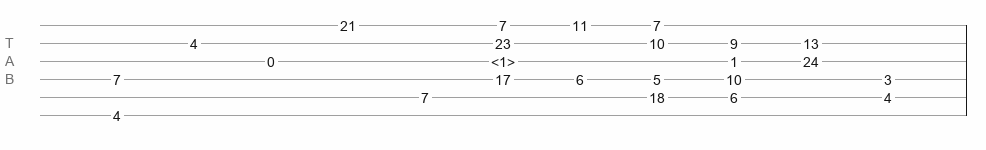0: (267, 54, 275, 64)
1: (730, 54, 738, 64)
10: (649, 36, 665, 46), (726, 72, 742, 82)
11: (572, 18, 588, 28)
13: (803, 36, 819, 46)
17: (495, 72, 511, 82)
18: (649, 90, 665, 100)
21: (340, 18, 356, 28)
23: (495, 36, 511, 46)
24: (803, 54, 819, 64)
3: (884, 72, 892, 82)
4: (113, 108, 121, 118), (190, 36, 198, 46), (884, 90, 892, 100)
5: (653, 72, 661, 82)
6: (576, 72, 584, 82), (730, 90, 738, 100)
7: (113, 72, 121, 82), (421, 90, 429, 100), (499, 18, 507, 28), (653, 18, 661, 28)
9: (730, 36, 738, 46)
harmonic: (491, 54, 515, 64)
